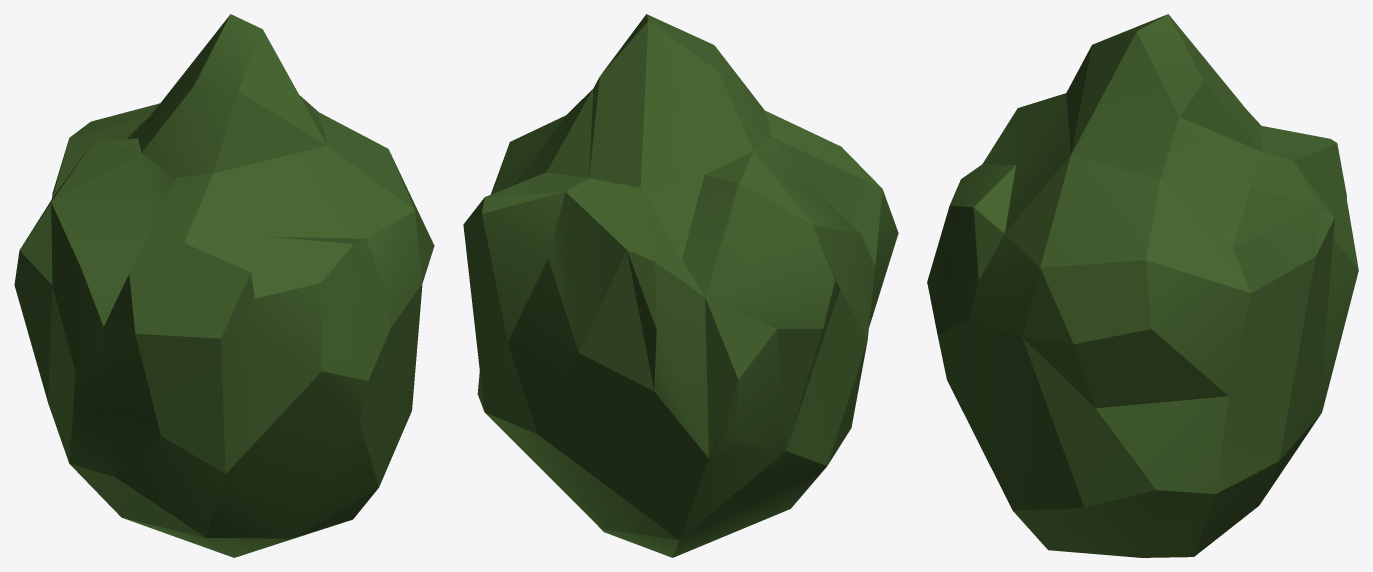
File: BroadleafJ.fbx
The picture shows the model from 3 angles, left to right: view 1: azimuth 30°, elevation 25°; view 2: azimuth 150°, elevation 25°; view 3: azimuth 270°, elevation 25°; orthographic projection. The views are drawn at different scales.
Parts seen in each view (by area): view 1: BroadLeafJ; view 2: BroadLeafJ; view 3: BroadLeafJ.
Boxes of the visible parts, box(x1,y1,x2,y2) form: BroadLeafJ: box(14, 14, 434, 557); BroadLeafJ: box(463, 14, 898, 557); BroadLeafJ: box(927, 14, 1358, 557).
Size of the model in its own units: 312 by 432 by 307.
